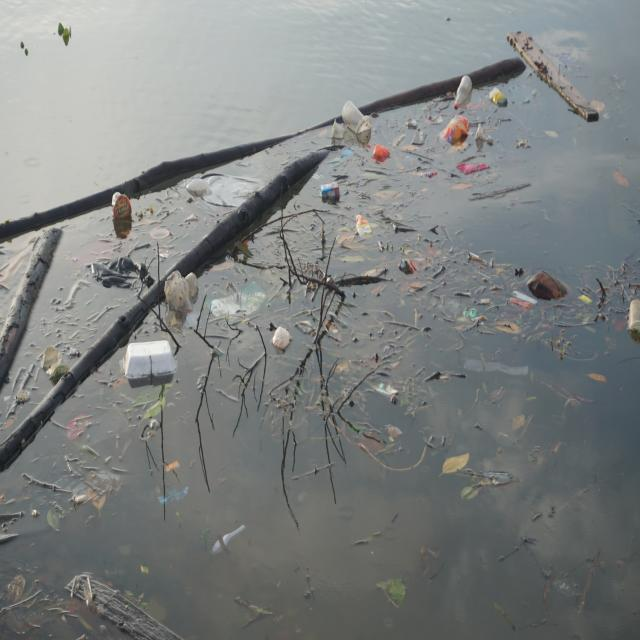Botol Plastik: (454, 76, 474, 110)
Bungkus Makanan: (122, 337, 182, 386)
Bungkus Minuman: (343, 98, 373, 142), (111, 191, 134, 224), (332, 119, 350, 144)
Kantong Plastik: (212, 279, 271, 327), (368, 140, 393, 164)
